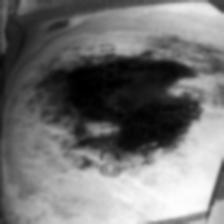Toxin: (121, 104, 195, 159)
